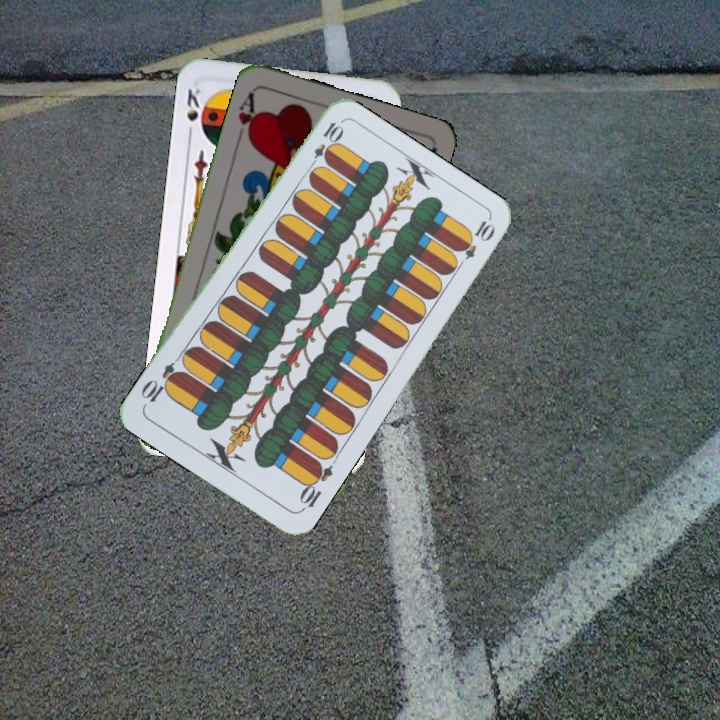E10: (295, 457, 335, 514), (304, 118, 345, 173)
HA: (233, 88, 262, 147)
SK: (182, 85, 206, 141)
